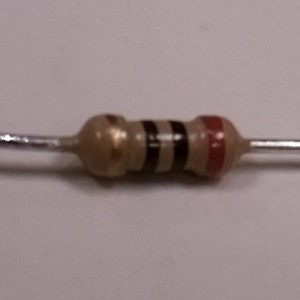black_band: (166, 116, 192, 179), (137, 118, 162, 178)
gold_band: (103, 111, 126, 181)
red_band: (197, 111, 228, 185)
